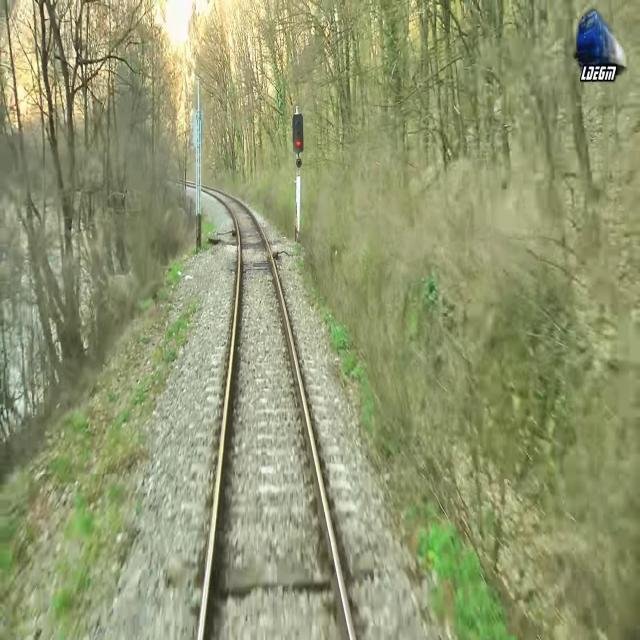rail-track: (201, 185, 351, 639)
